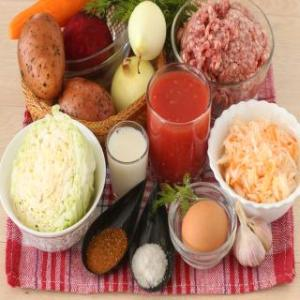bell_pepper: (60, 8, 114, 74)
cabbage: (0, 103, 100, 234)
carrot: (7, 0, 91, 46)
egg: (179, 190, 229, 258)
garlic: (232, 200, 276, 270)
onion: (108, 55, 158, 115), (127, 0, 167, 62)
potato: (15, 18, 69, 104), (55, 70, 117, 128)
